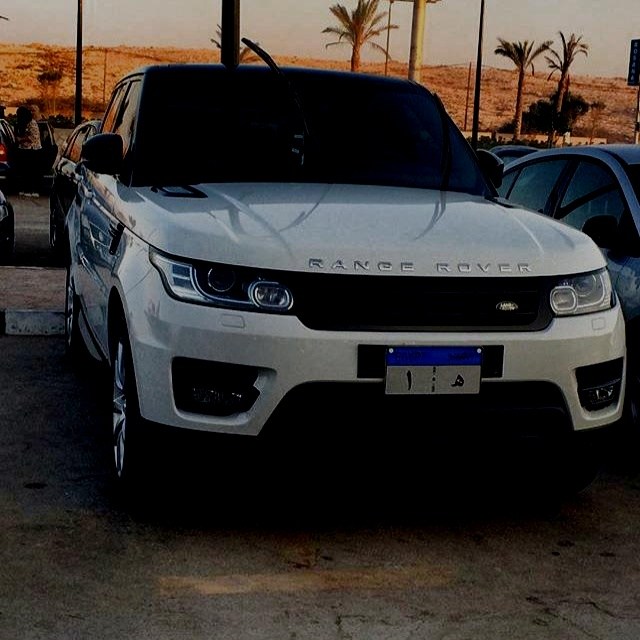License Plate: (382, 343, 485, 397)
